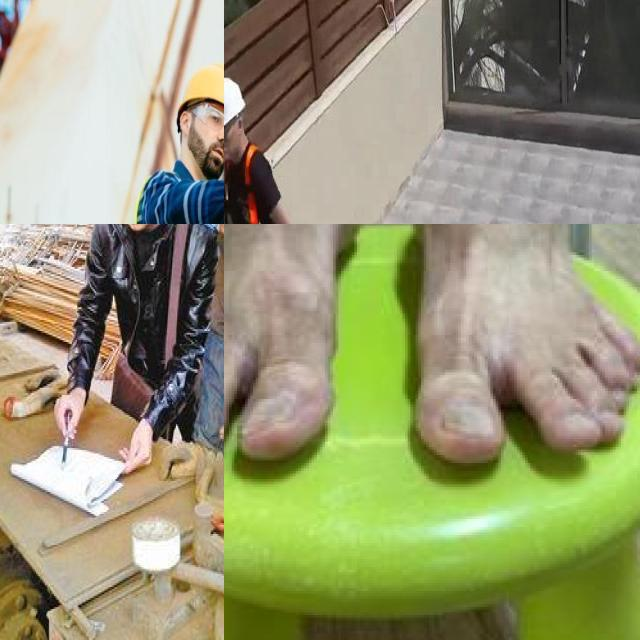Barefoots: (380, 224, 640, 491), (224, 224, 365, 487)
Harness: (242, 146, 263, 224)
No_Ear-Protection: (178, 109, 190, 137)
face_nomask: (182, 103, 224, 179)
glasses: (199, 99, 224, 148)
hand_noglove: (119, 419, 153, 473), (54, 387, 86, 438)
head_helmet: (169, 62, 224, 120)
person: (139, 61, 224, 224)
